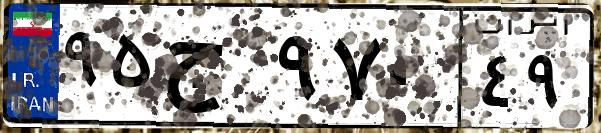0: (385, 28, 445, 110)
4: (475, 38, 525, 113)
5: (110, 28, 158, 98)
7: (330, 28, 385, 110)
9: (270, 28, 330, 110), (57, 26, 110, 100), (525, 38, 570, 115)
ج: (158, 20, 270, 120)
